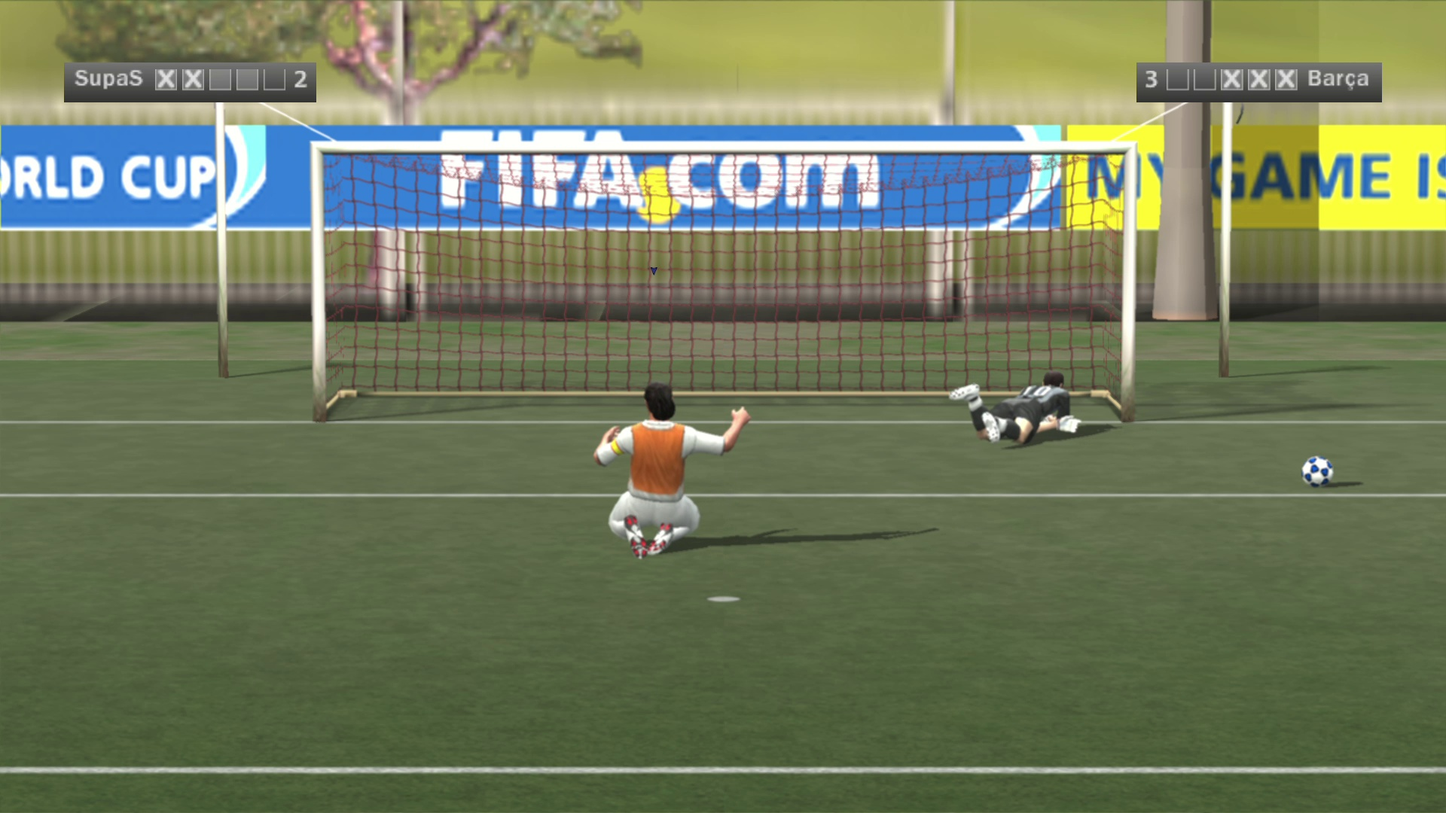ball: (1281, 438, 1318, 470)
goal_post: (0, 22, 725, 286)
keeper: (866, 305, 1012, 398)
kicker: (504, 289, 672, 470)
